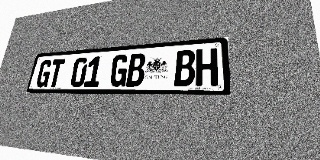0: (70, 57, 89, 87)
1: (84, 56, 103, 87)
B: (174, 49, 195, 86), (126, 53, 146, 87)
G: (109, 54, 129, 87), (35, 60, 53, 87)
H: (195, 48, 218, 86)
T: (47, 59, 65, 87)
